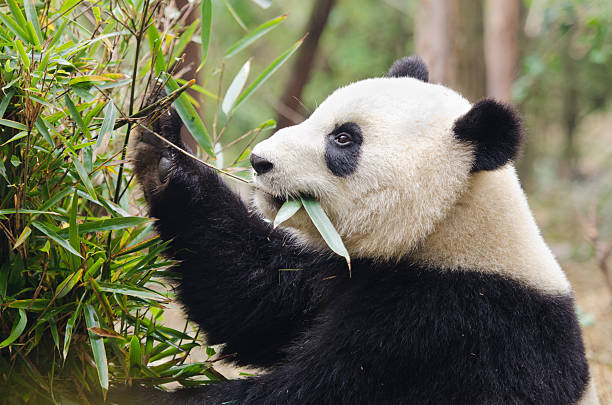panda: (248, 34, 547, 305)
